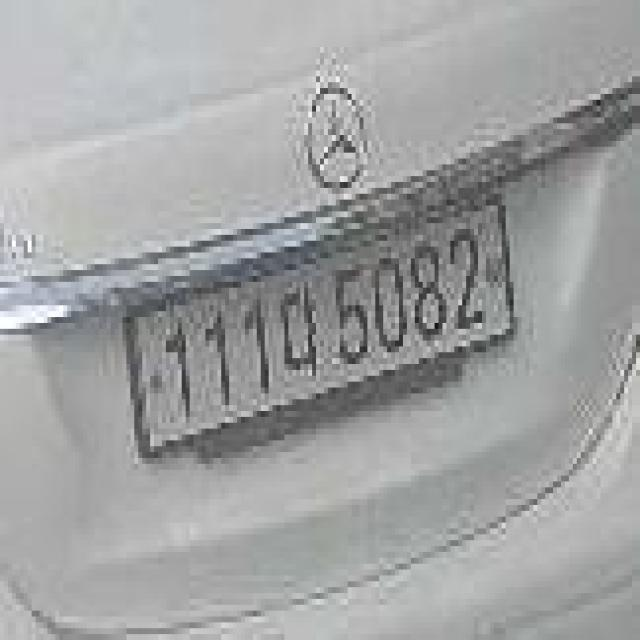illegal_plate: (122, 193, 516, 474)
